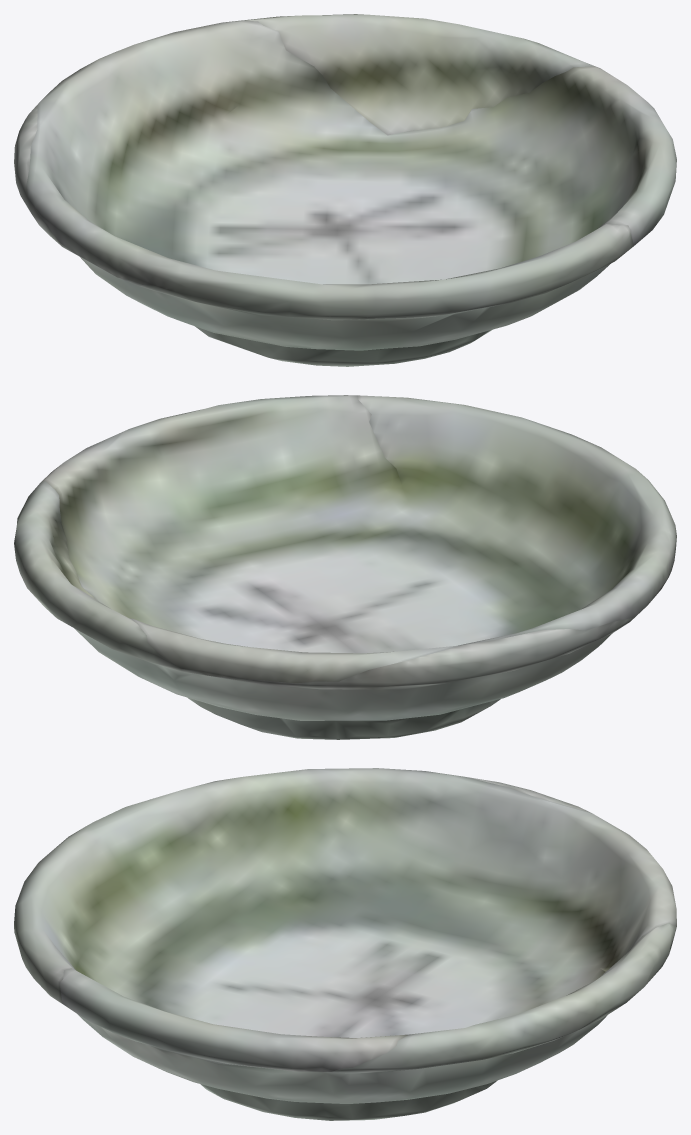
The model's file is Kotobuki_Saucer_Dragon_Fly-medium.glb.
3 views of the same model, one above another, from view 1: azimuth 30°, elevation 25°; view 2: azimuth 150°, elevation 25°; view 3: azimuth 270°, elevation 25° (orthographic).
Parts seen in each view (by area): view 1: Kotobuki_Saucer_Dragon_Fly; view 2: Kotobuki_Saucer_Dragon_Fly; view 3: Kotobuki_Saucer_Dragon_Fly.
Part boxes in pixels (x1,y1,x2,y2): Kotobuki_Saucer_Dragon_Fly: [14, 14, 676, 366]; Kotobuki_Saucer_Dragon_Fly: [14, 395, 676, 739]; Kotobuki_Saucer_Dragon_Fly: [14, 768, 676, 1120].
Bounding box in the file's own units: 0.0964 × 0.0242 × 0.0965.
Materials: 1 (1 with a texture image).
